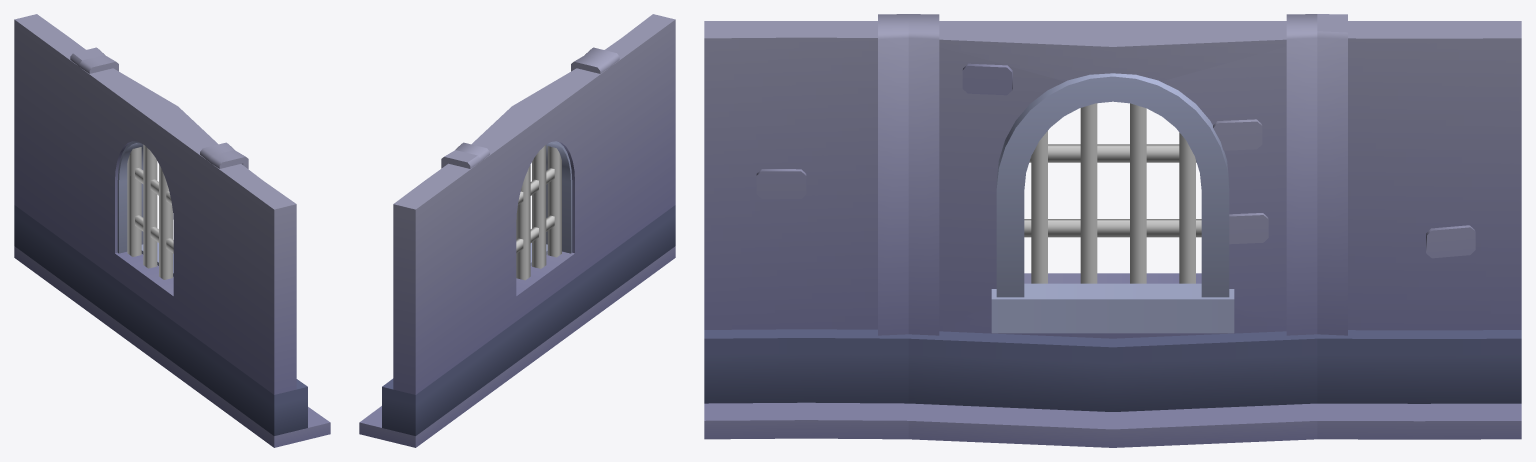
File: corridor-wide-window-rightflat.fbx
3 renders of one model, left to right at view 1: azimuth 30°, elevation 25°; view 2: azimuth 150°, elevation 25°; view 3: azimuth 270°, elevation 25°, orthographic. The views are drawn at different scales.
Visible parts, largest first — view 1: corridor-wide.028; view 2: corridor-wide.028; view 3: corridor-wide.028.
Part boxes in pixels (x1,y1,x2,y2): corridor-wide.028: (14,14,330,447); corridor-wide.028: (359,14,675,447); corridor-wide.028: (704,14,1521,447).
Size of the model in its own units: 48.08 by 166 by 320.
